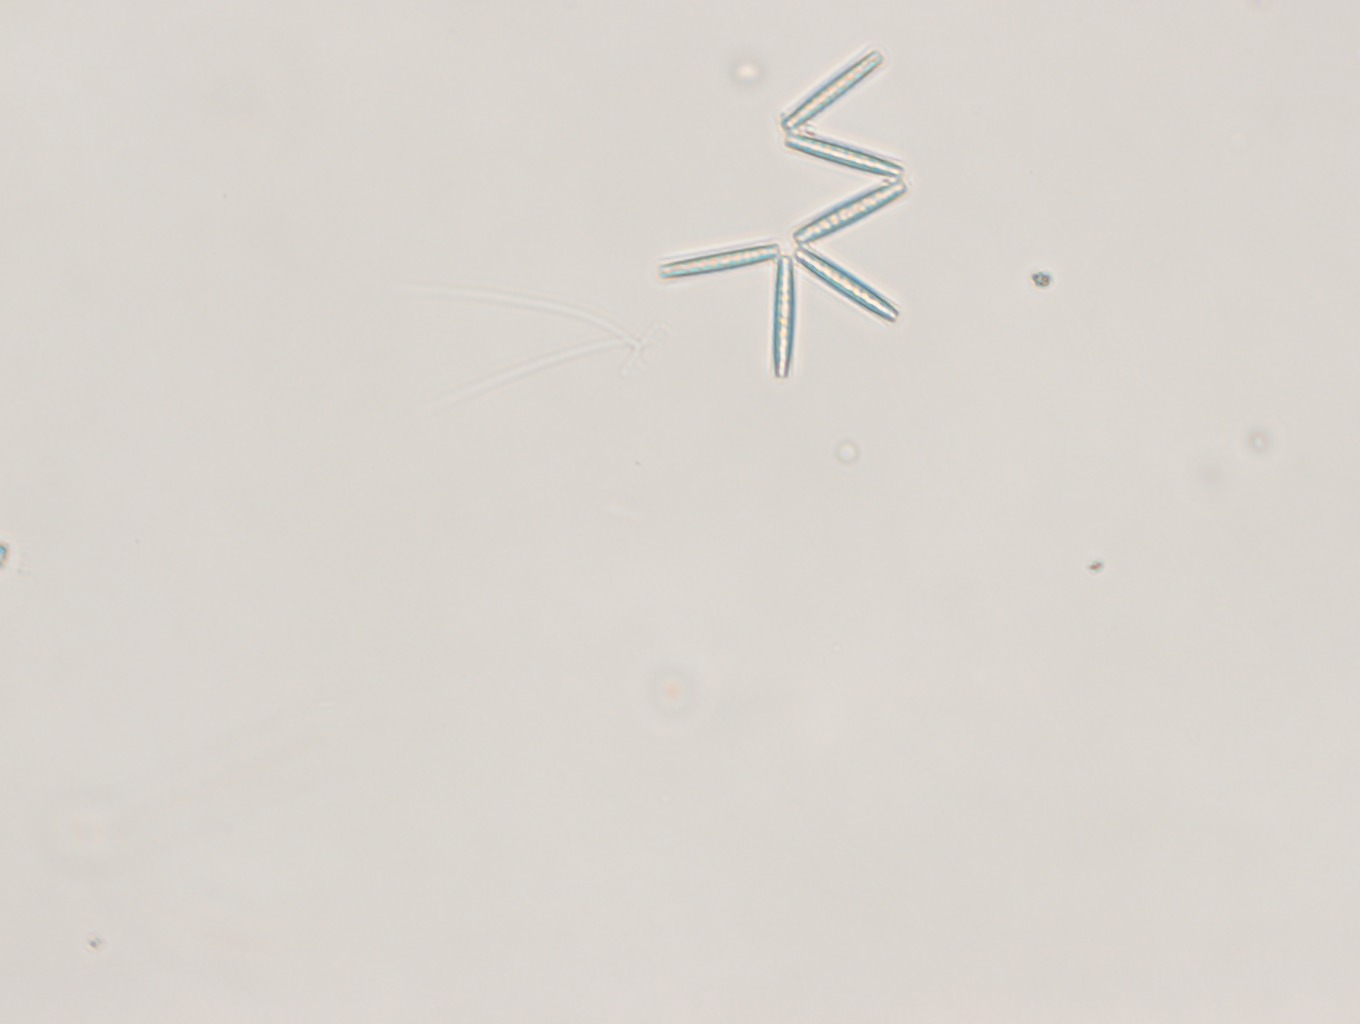thalassionema nitzschioides: (655, 47, 924, 376)
